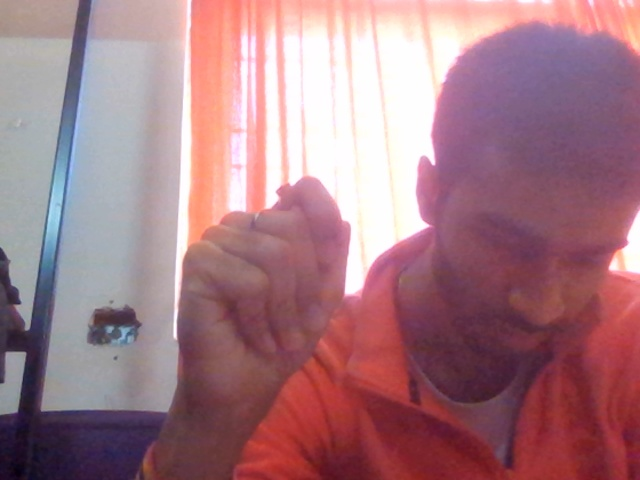T: (147, 167, 403, 423)
